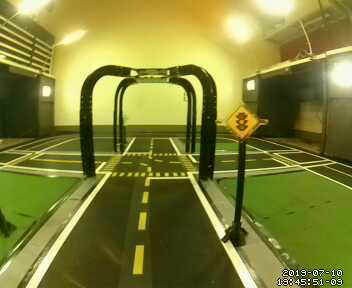Traffic light sign: (225, 104, 261, 138)
